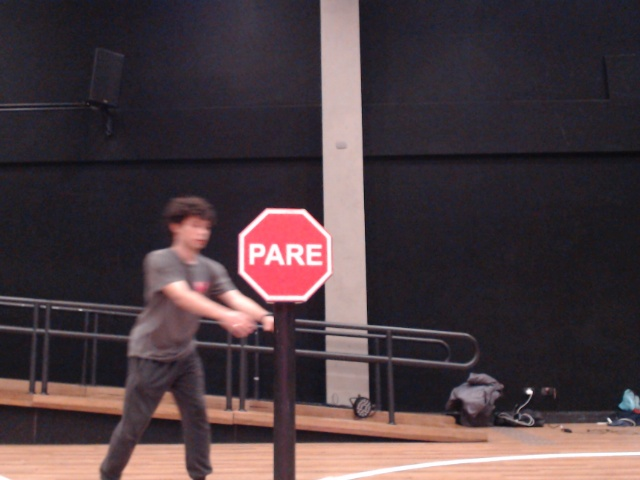SEMAFORO: (221, 194, 365, 326)
